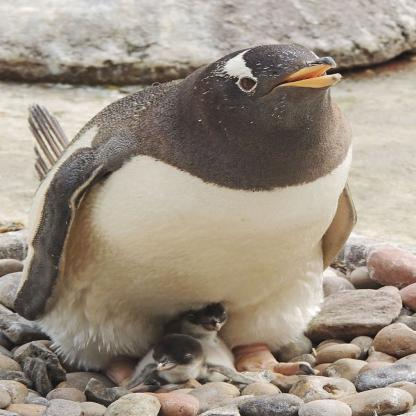Penguin: (12, 31, 388, 396), (115, 328, 250, 408), (159, 290, 260, 374)
